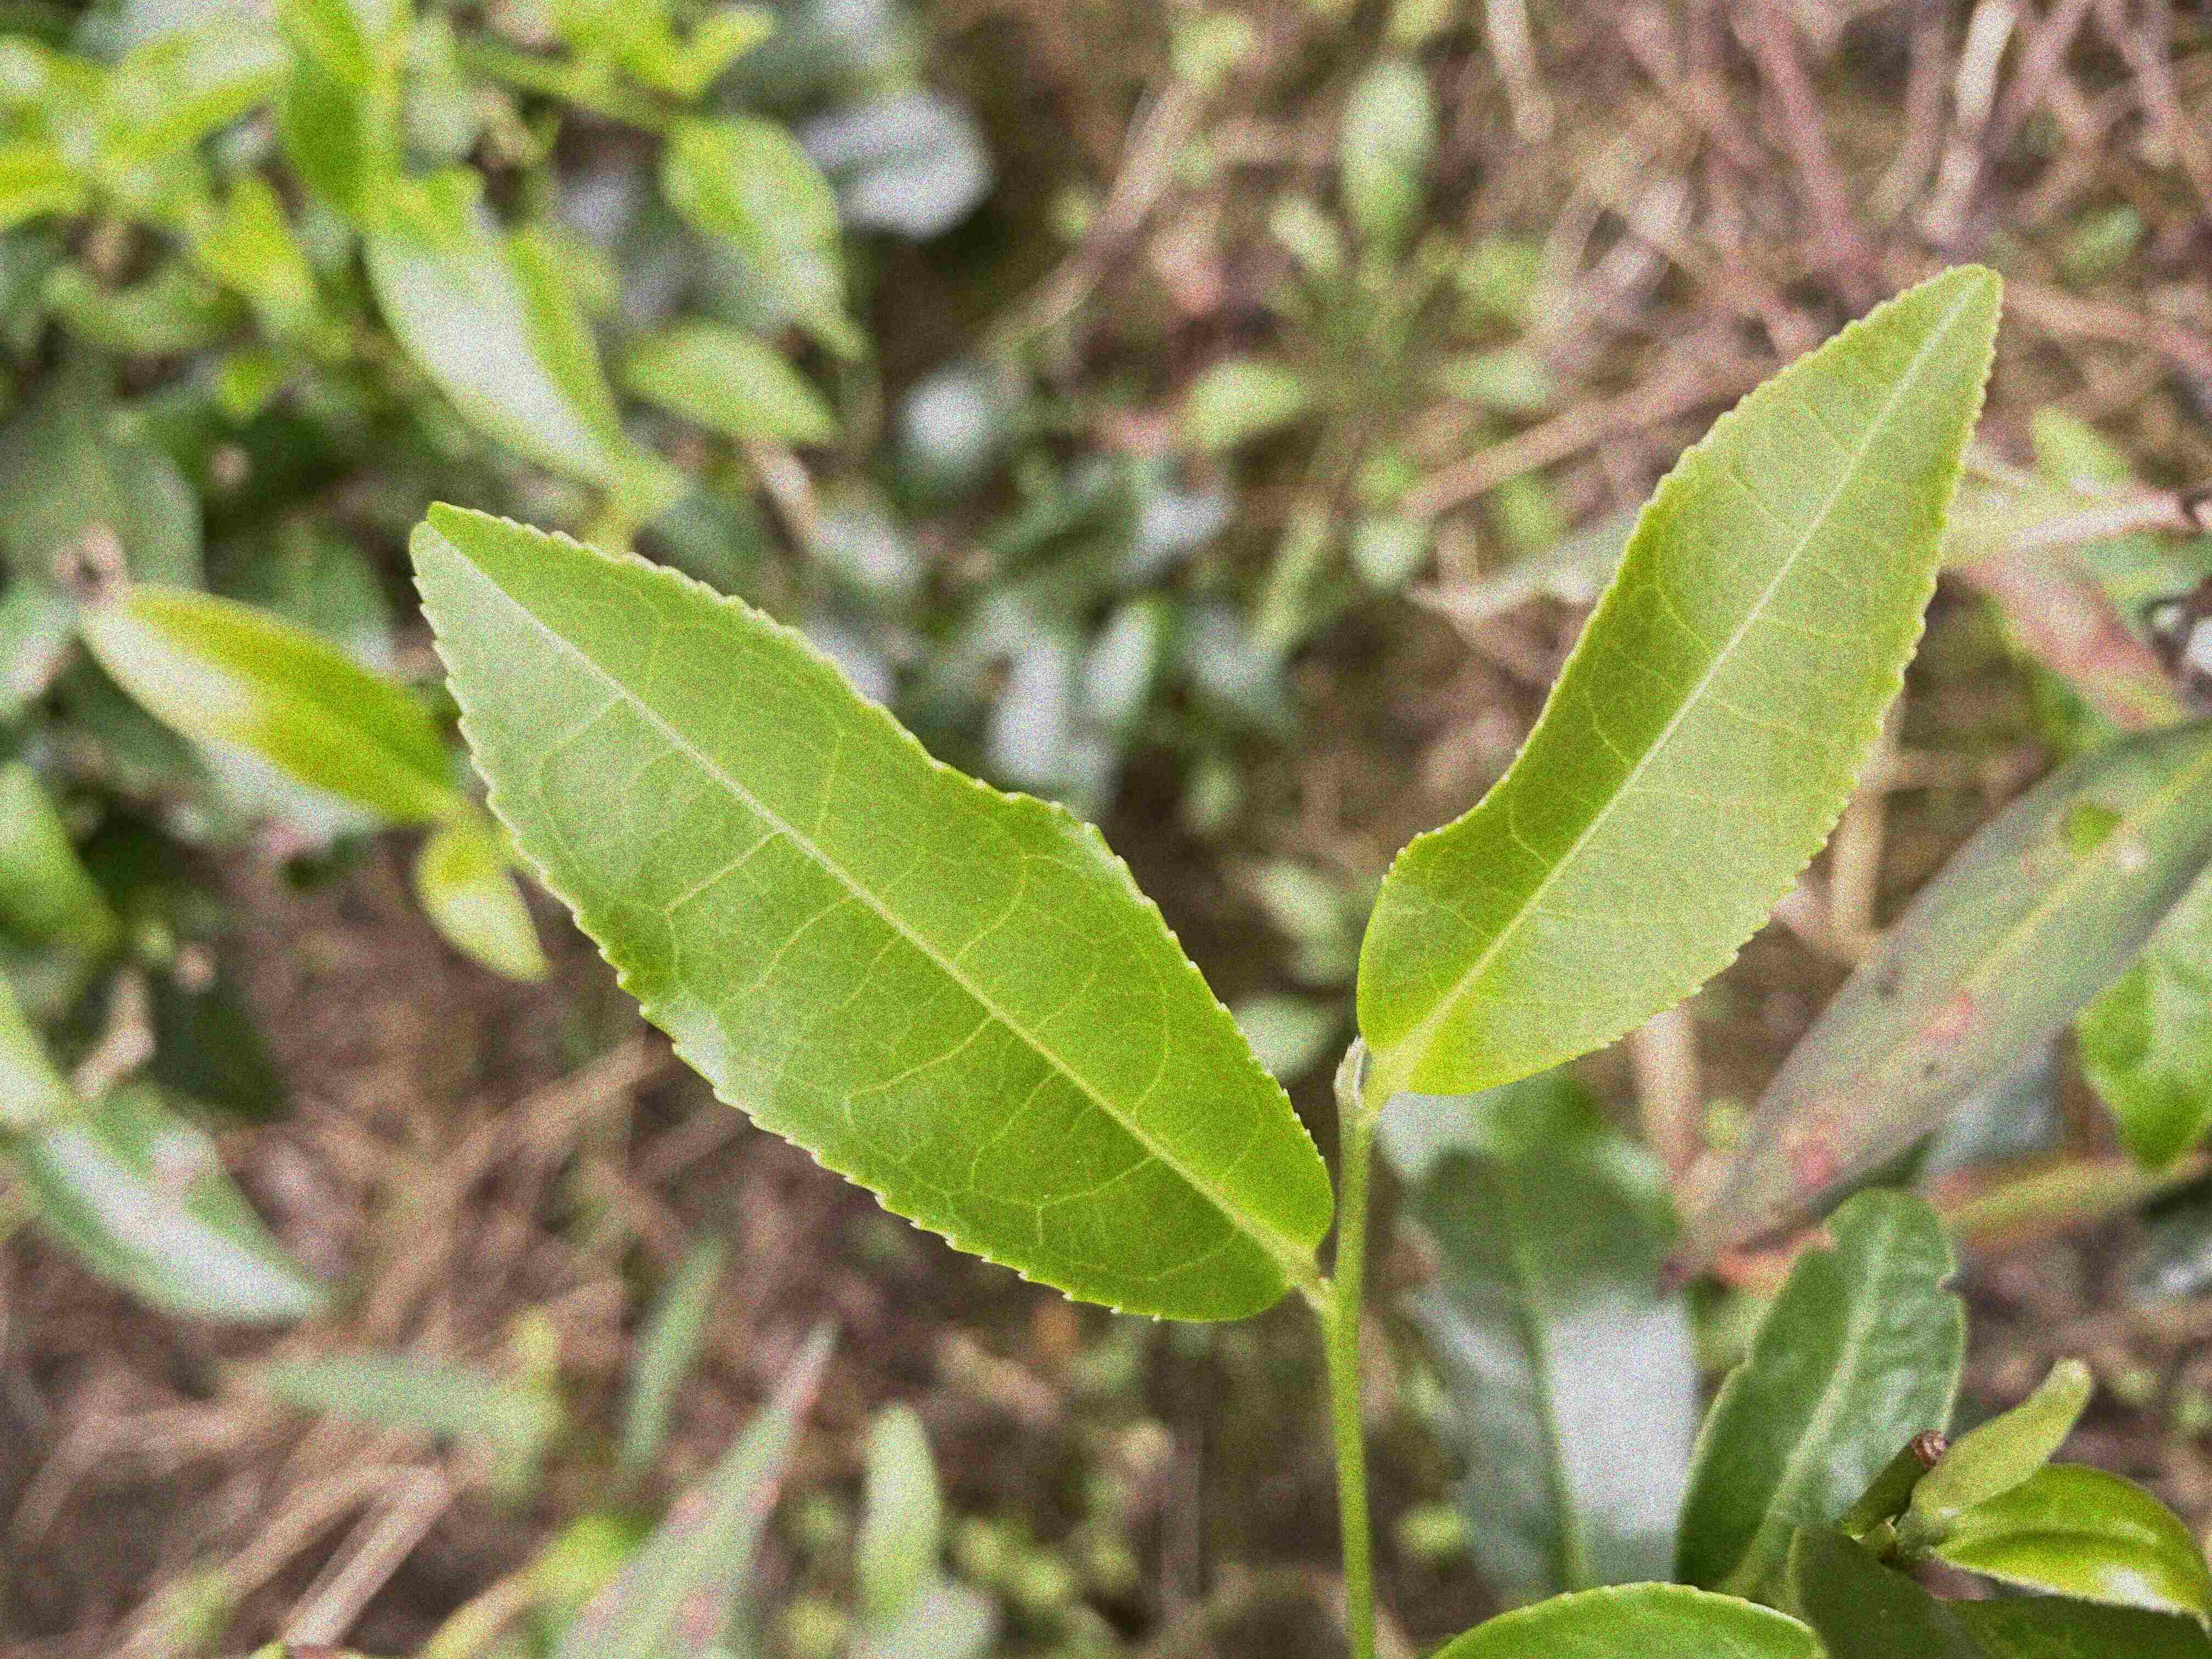healthy: (404, 497, 1336, 1328), (1355, 263, 2005, 1094)
